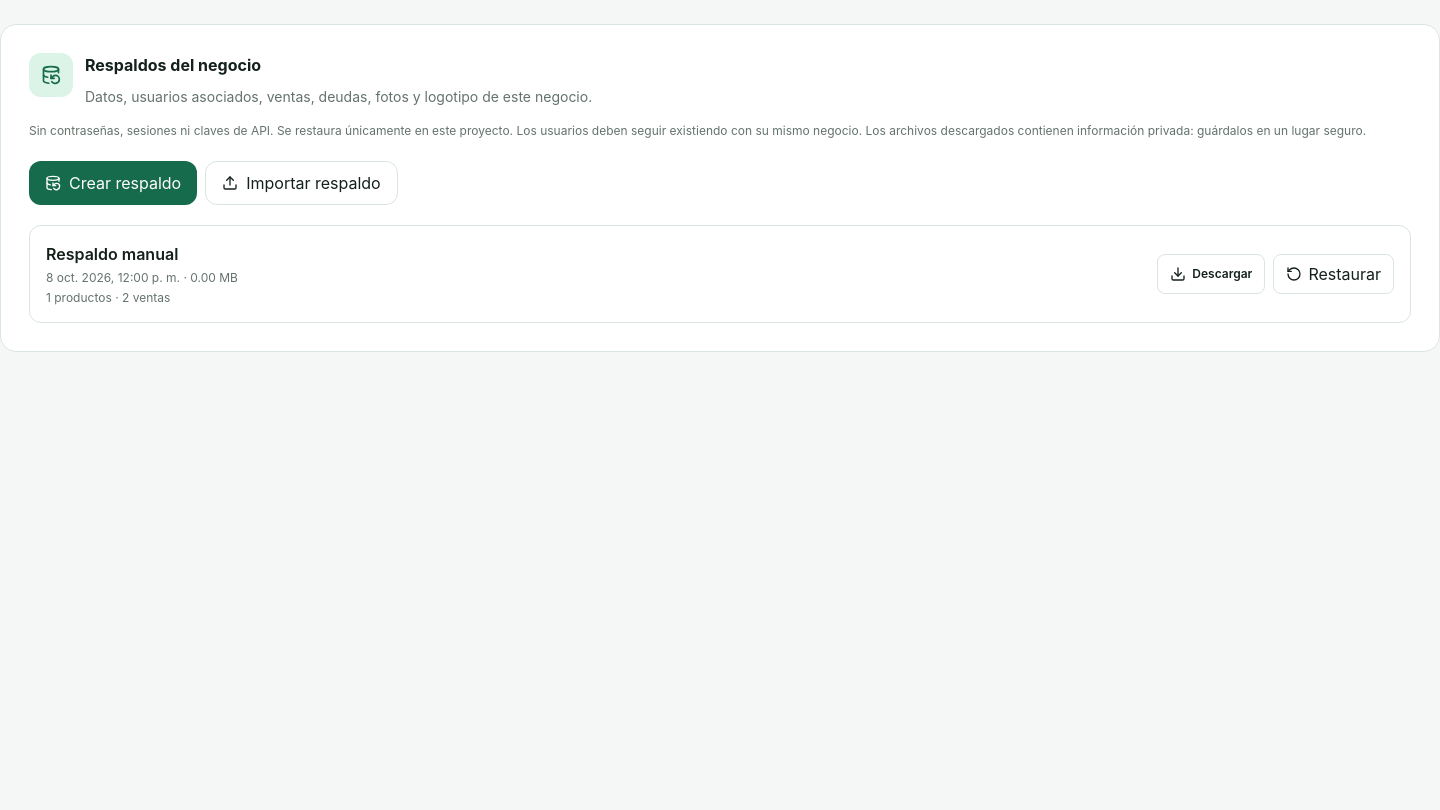
backup management UI › requires a web popup and exact confirmation before restoring
This screenshot has width=1440, height=810.
Click the button "Restaurar" at (1334, 274), box [1273,254,1394,294]
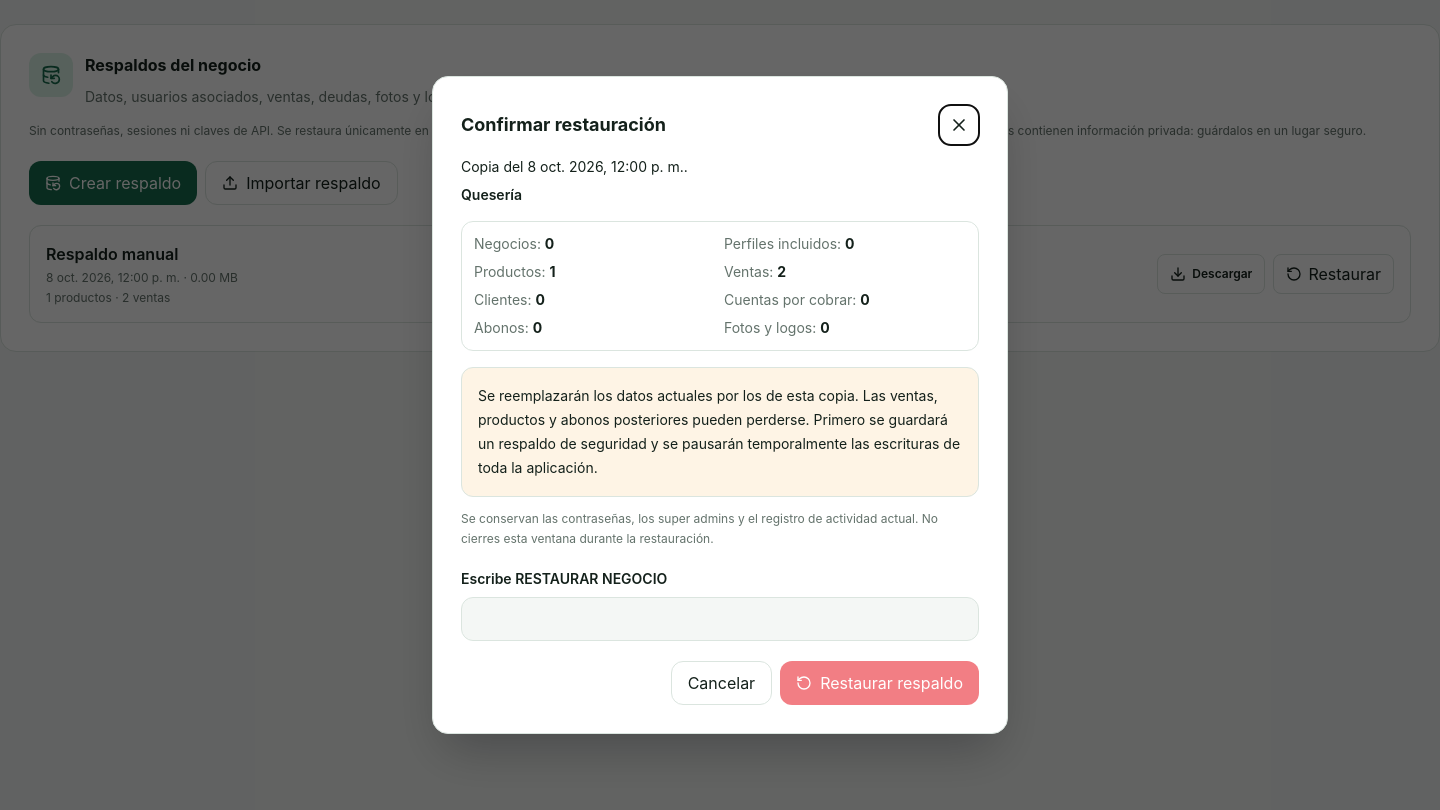
Now the dialog is shown, box [432,76,1008,734]
Now the button "Restaurar respaldo" is disabled, box [780,661,979,705]
Type "restaurar" into the field labelled "Escribe RESTAURAR NEGOCIO" at (720, 619), box [461,597,979,641]
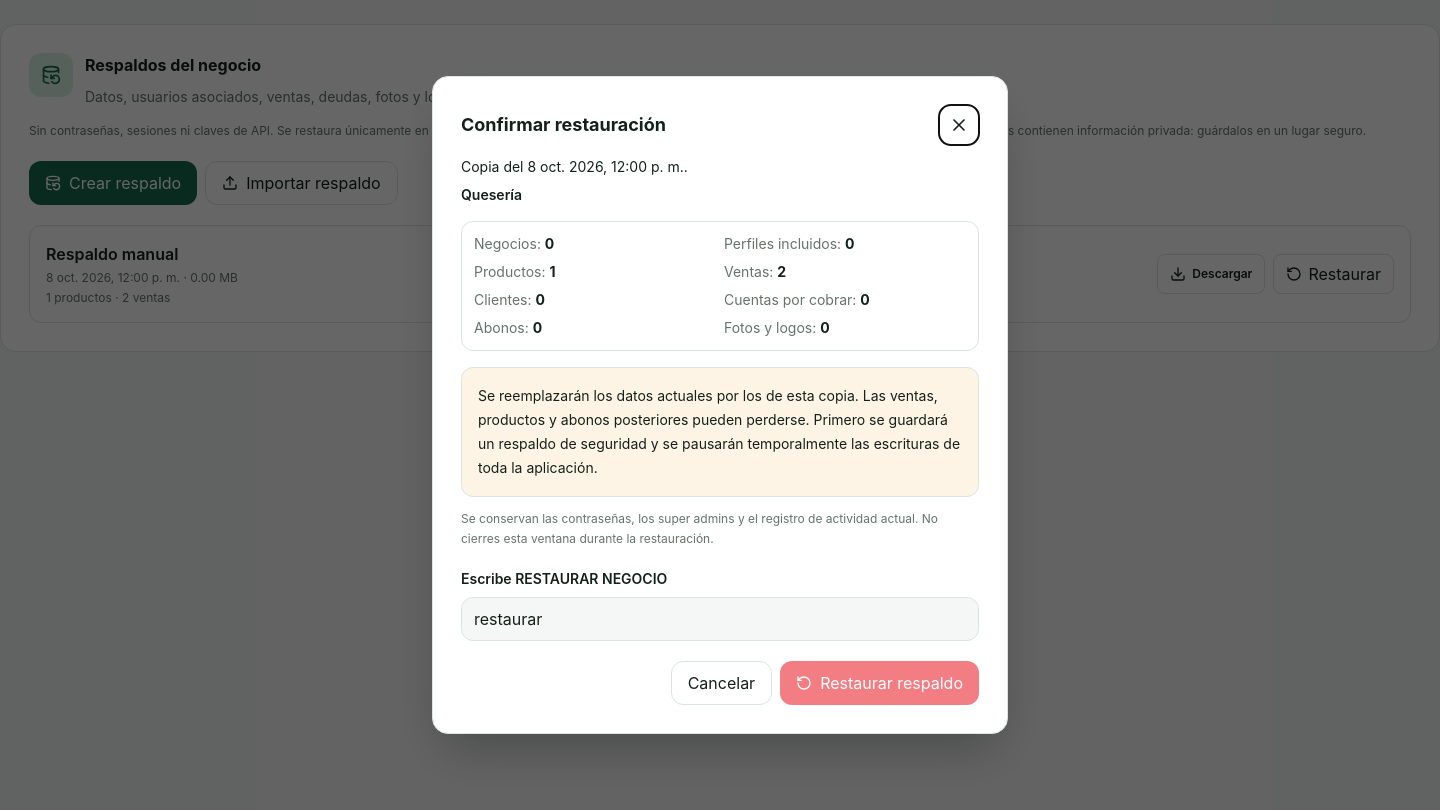
Now the button "Restaurar respaldo" is disabled, box [780,661,979,705]
Replace the text in the field labelled "Escribe RESTAURAR NEGOCIO" with "RESTAURAR NEGOCIO" at (720, 619), box [461,597,979,641]
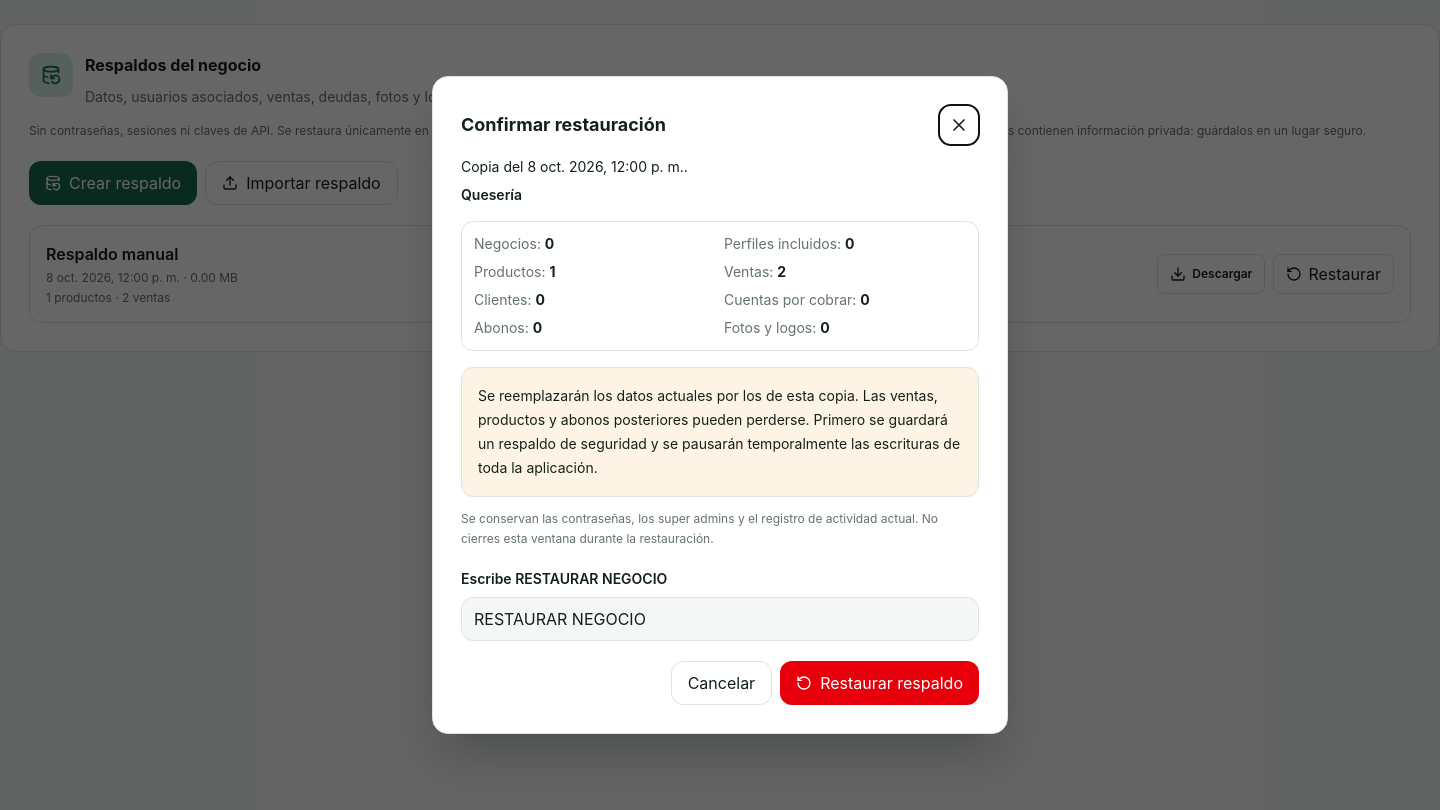
Click the button "Restaurar respaldo" at (880, 683), box [780,661,979,705]
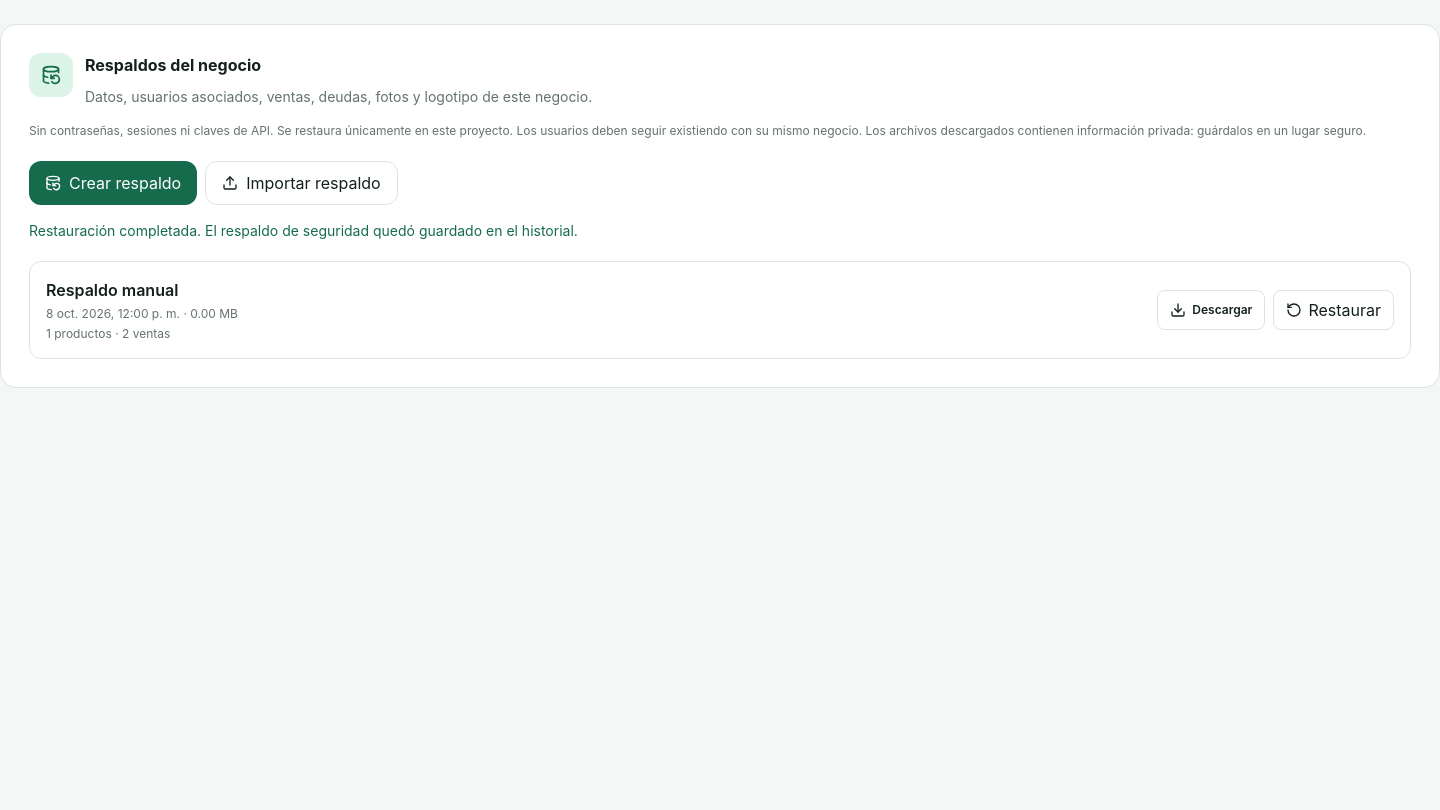
Now the text "Restauración completada. El respaldo de seguridad quedó guardado en el historial." is shown, box [29,222,578,239]
